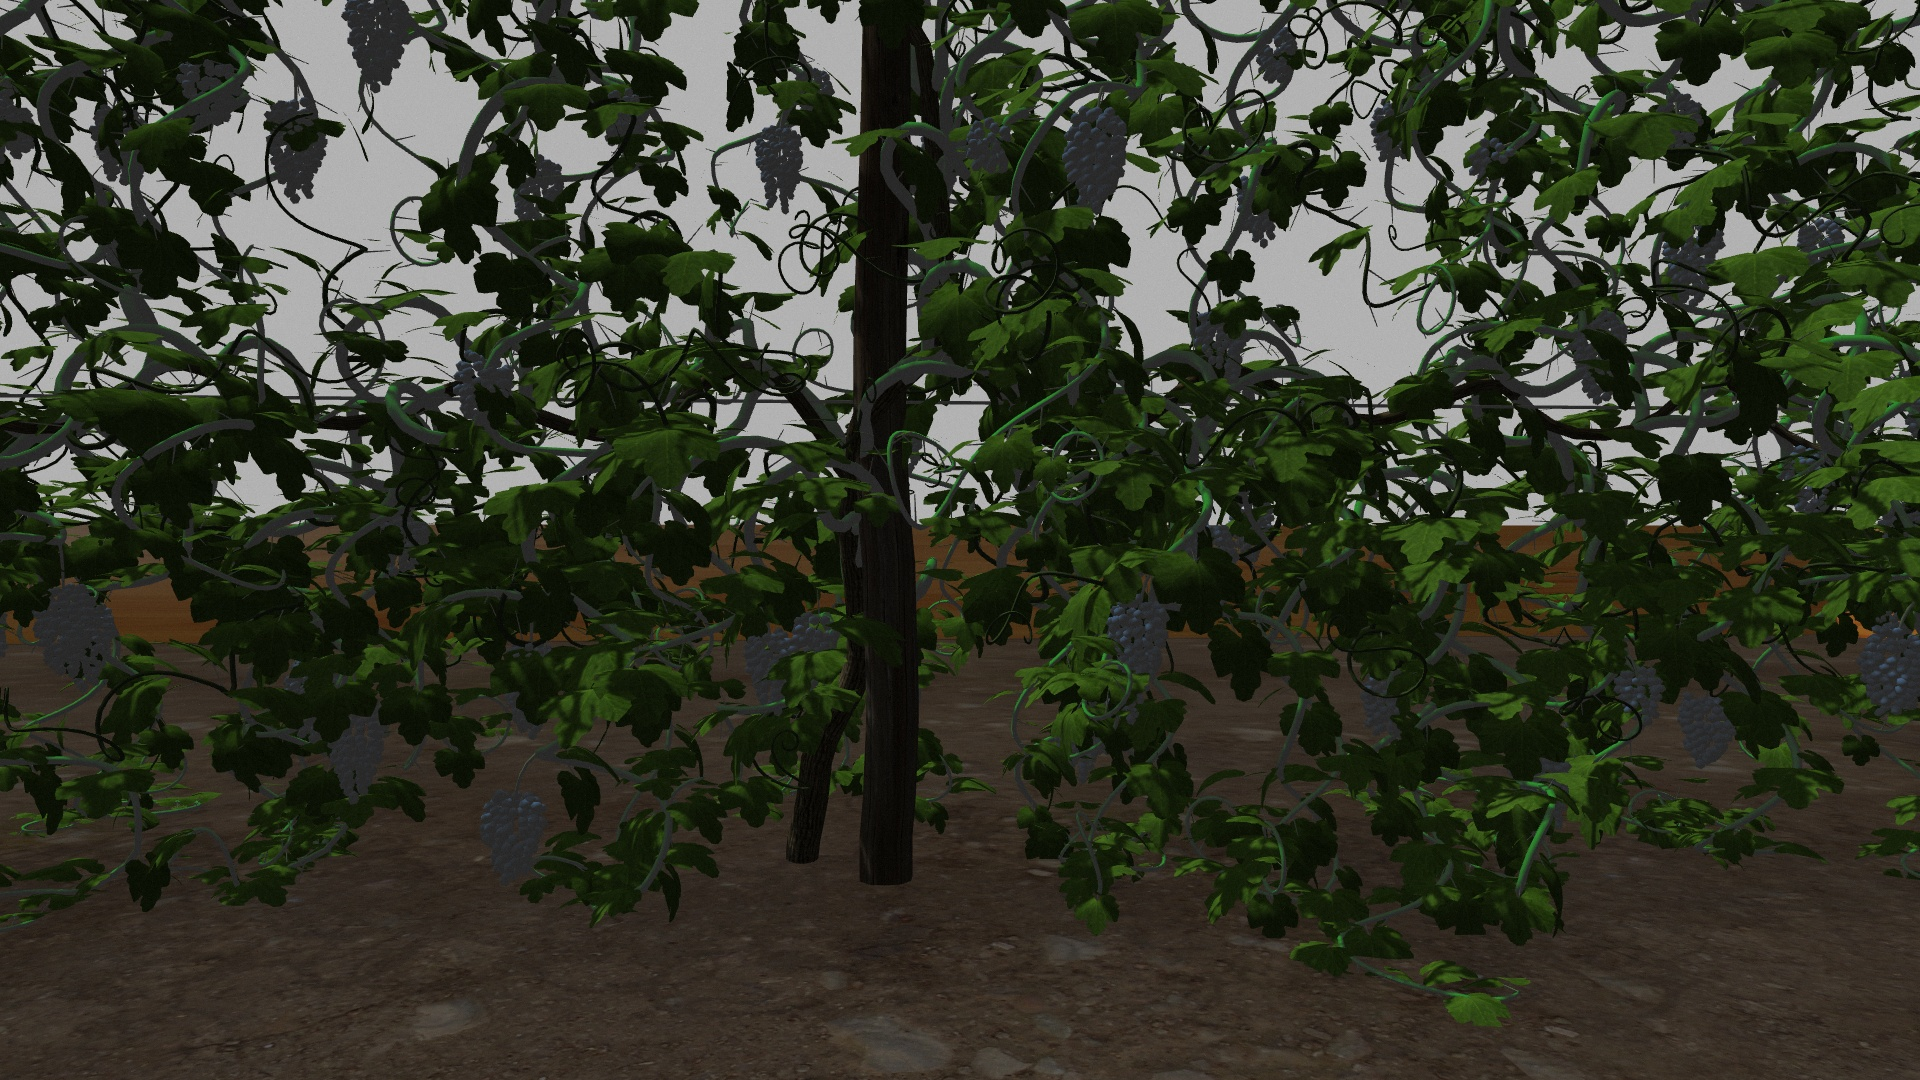grape: (32, 585, 116, 682), (340, 7, 419, 98), (1063, 105, 1129, 214), (262, 98, 330, 203), (477, 790, 547, 887), (450, 345, 520, 436), (174, 57, 256, 133), (326, 712, 388, 811), (1656, 227, 1725, 309), (1859, 615, 1909, 724), (1110, 589, 1168, 680), (1571, 313, 1629, 401), (742, 633, 796, 721), (1676, 690, 1733, 771), (1195, 299, 1247, 386), (756, 124, 806, 214), (509, 154, 568, 228), (596, 80, 651, 160), (1615, 662, 1665, 731), (1356, 676, 1404, 742), (1655, 94, 1706, 154), (793, 611, 847, 665), (1797, 218, 1849, 272), (1236, 178, 1275, 248), (969, 117, 1015, 177), (1254, 30, 1302, 87), (1462, 132, 1513, 183), (1370, 98, 1404, 164)
